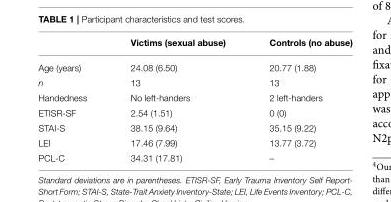table: (37, 37, 351, 162)
table column: (108, 37, 246, 162), (246, 37, 351, 162), (37, 37, 108, 162)
table column header: (37, 37, 351, 55)
table row: (37, 55, 351, 75), (37, 37, 351, 55), (37, 75, 351, 90), (37, 90, 351, 105), (37, 105, 351, 120), (37, 120, 351, 135), (37, 135, 351, 150), (37, 150, 351, 162)
